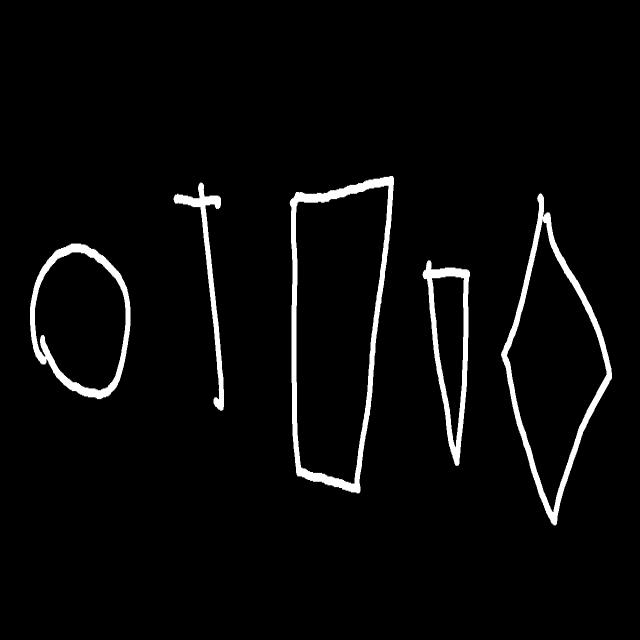Circle: (30, 244, 130, 399)
Cross: (174, 182, 224, 410)
Diamond: (501, 194, 612, 524)
Square: (291, 178, 394, 492)
Triangle: (423, 261, 470, 466)
